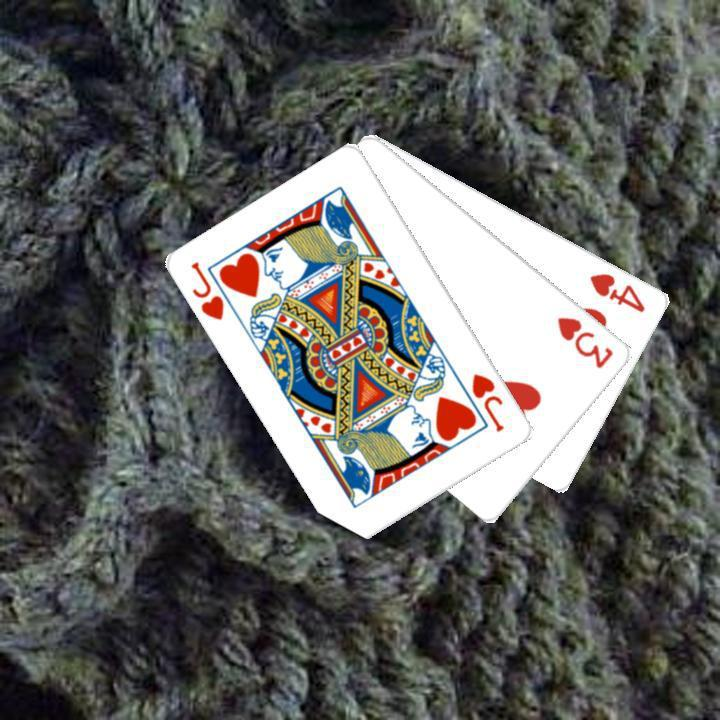3: (553, 312, 616, 371)
4: (585, 268, 648, 315)
J: (187, 257, 227, 323), (467, 369, 507, 434)
